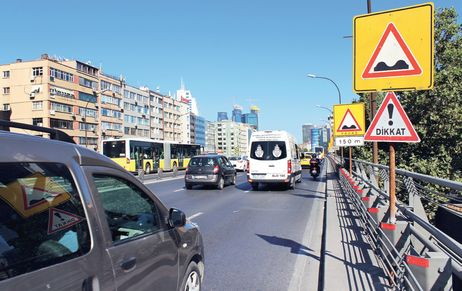Kasisli Yol: (358, 15, 432, 86)
